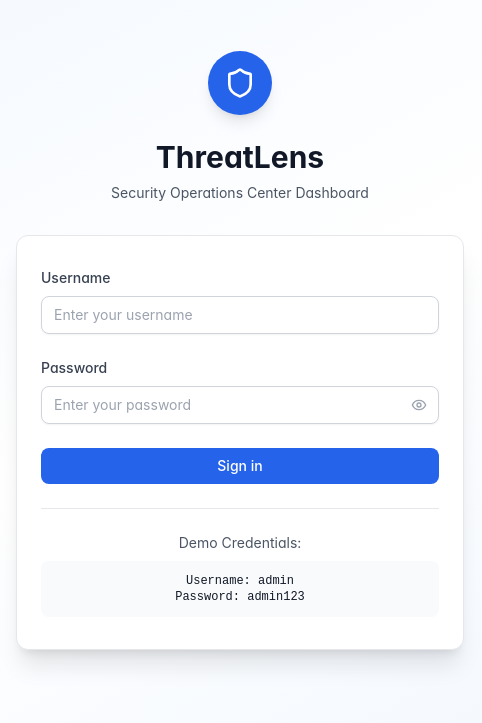
it: LoginPage › shows error message on login failure
Type "admin" into the field labelled "Username" at x=240, y=314, box [41,296,439,334]
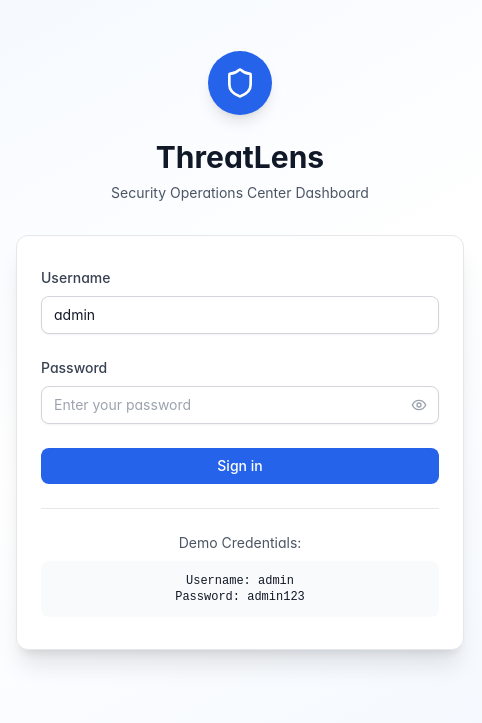
Type "wrongpassword" into the password field labelled "Password" at x=240, y=404, box [41,386,439,424]
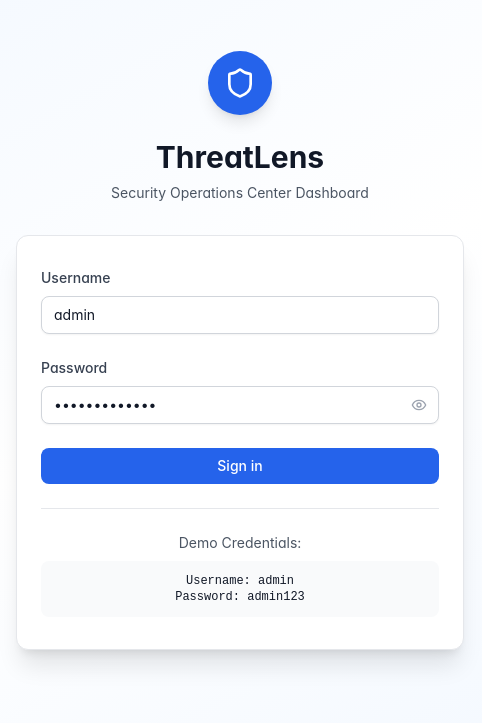
Click the button "Sign in" at x=240, y=466, box [41,448,439,484]
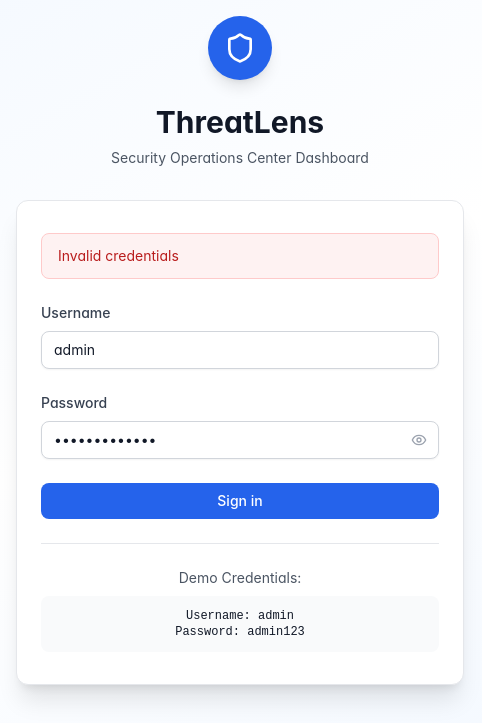
Expected: the text "Invalid credentials" is shown, [41,232,439,278]
